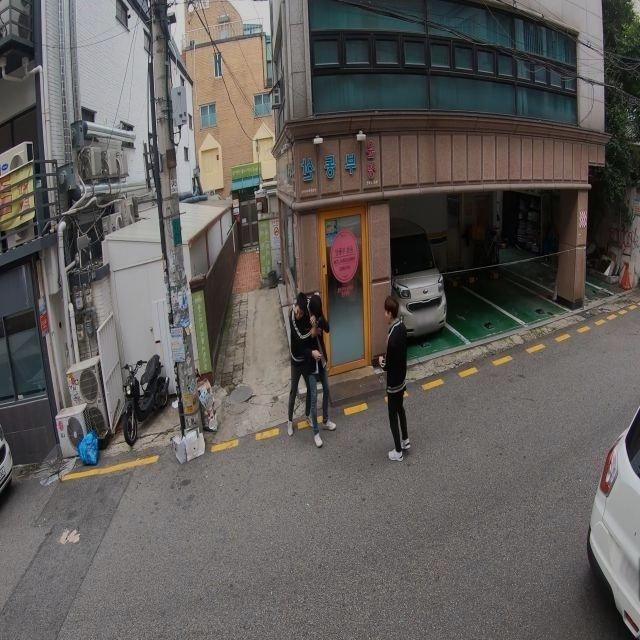fight: (288, 292, 336, 449)
non-fight: (377, 295, 414, 464)
